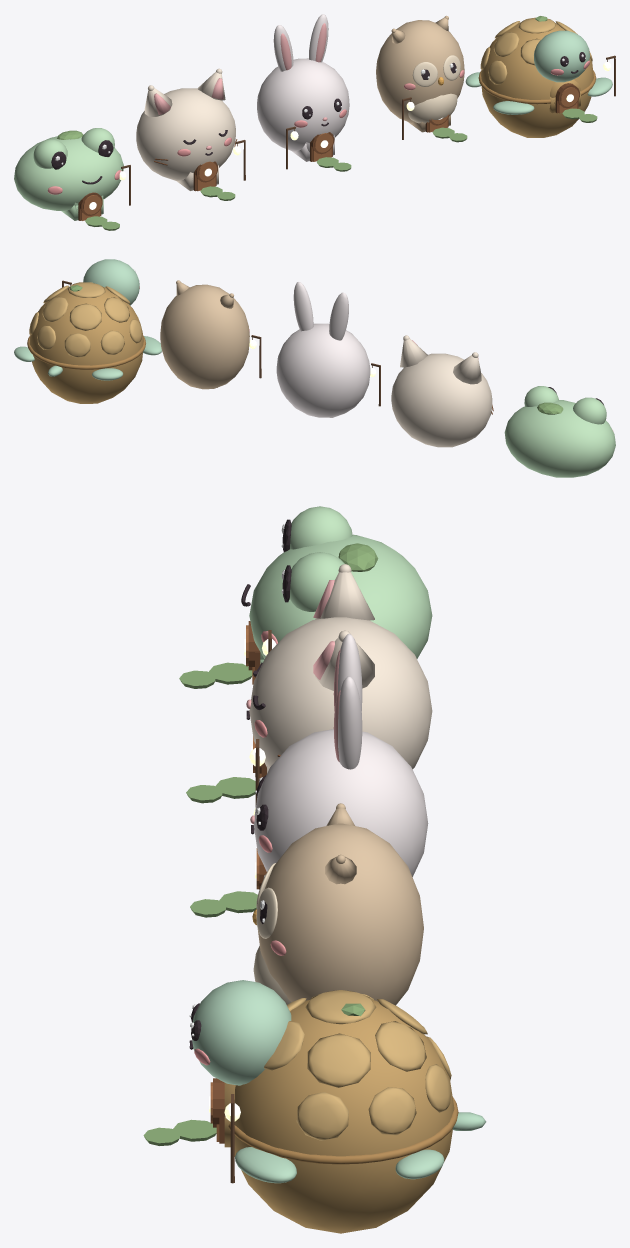
The model's file is mist_houses.glb.
3 renders of one model, top to bottom at view 1: azimuth 30°, elevation 25°; view 2: azimuth 150°, elevation 25°; view 3: azimuth 270°, elevation 25°, orthographic. The views are drawn at different scales.
Parts seen in each view (by area): view 1: cat-house-cat, rabbit-house-rabbit, frog-house-frog, owl-house-owl, turtle-house-shell, turtle-house-turtle, turtle-house-plate, owl-house-owl-belly, rabbit-house-pink, frog-house-moss, turtle-house-rim, frog-house-eye (+9 smaller); view 2: rabbit-house-rabbit, cat-house-cat, owl-house-owl, frog-house-frog, turtle-house-shell, turtle-house-plate, turtle-house-turtle, turtle-house-rim; view 3: turtle-house-shell, owl-house-owl, cat-house-cat, rabbit-house-rabbit, frog-house-frog, turtle-house-plate, turtle-house-turtle, turtle-house-rim, frog-house-moss, owl-house-owl-belly, turtle-house-moss, cat-house-moss (+1 smaller).
Boxes of the visible parts, x1,y1,x2,y2 form: cat-house-cat: (136,68,235,190); rabbit-house-rabbit: (257,14,349,161); frog-house-frog: (14,128,123,220); owl-house-owl: (376,15,464,132); turtle-house-shell: (481,22,593,137); turtle-house-turtle: (465,30,612,114); turtle-house-plate: (480,17,592,84); owl-house-owl-belly: (408,55,460,123); rabbit-house-pink: (280,23,327,120); frog-house-moss: (57,130,119,230); turtle-house-rim: (478,70,596,104); frog-house-eye: (51,140,113,184); rabbit-house-rabbit: (276,282,370,417); cat-house-cat: (391,335,492,447); owl-house-owl: (160,280,249,389); frog-house-frog: (504,386,615,477); turtle-house-shell: (29,287,143,403); turtle-house-plate: (29,282,142,357); turtle-house-turtle: (14,259,161,380); turtle-house-rim: (27,335,145,369); turtle-house-shell: (224,1000,454,1233); owl-house-owl: (257,803,423,1005); cat-house-cat: (249,564,432,773); rabbit-house-rabbit: (253,633,428,876); frog-house-frog: (249,506,432,664); turtle-house-plate: (264,990,451,1140); turtle-house-turtle: (192,980,486,1183); turtle-house-rim: (228,1097,458,1164); frog-house-moss: (179,543,378,688); owl-house-owl-belly: (253,863,291,1004); turtle-house-moss: (143,1003,365,1145); cat-house-moss: (186,777,255,803).
Size of the model in its own units: 32.04 by 9.01 by 8.24.
